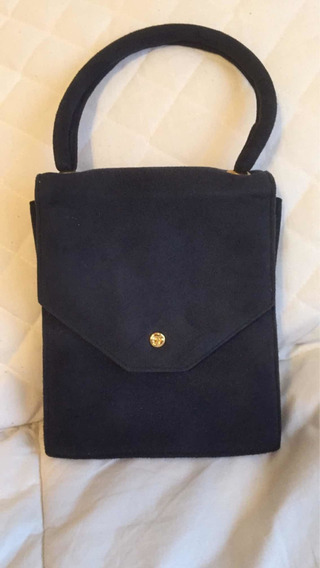cartera: (28, 22, 286, 457)
